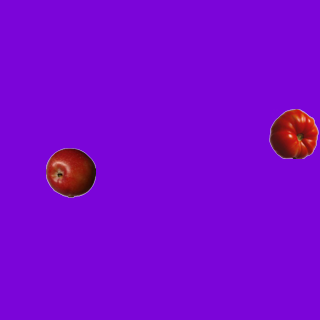Apple Braeburn: (45, 147, 95, 197)
Tomato 3: (268, 108, 318, 158)
